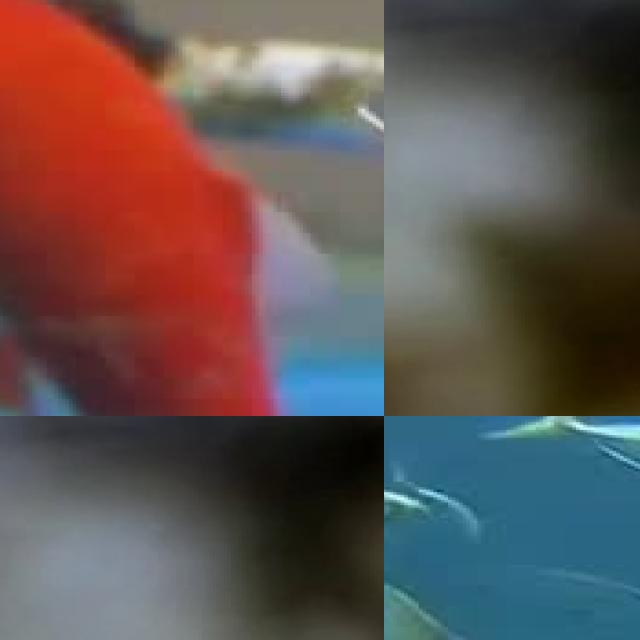fish: (0, 0, 384, 416), (499, 416, 640, 507)
